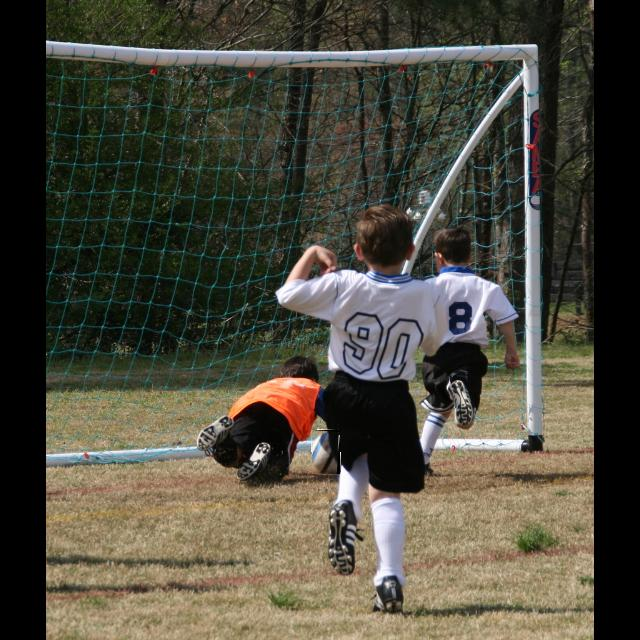Football: (312, 430, 340, 474)
